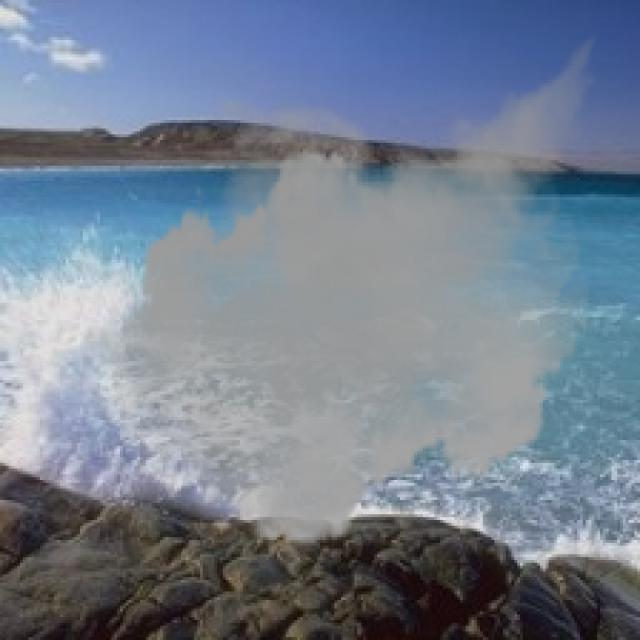Smoke: (82, 8, 608, 560)
